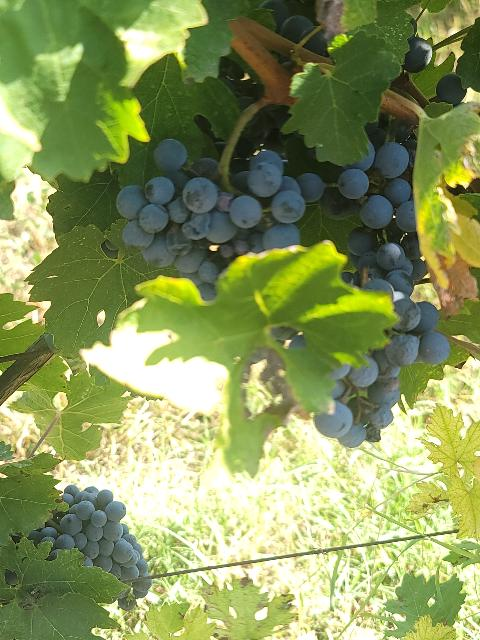grapes: (314, 114, 450, 448), (116, 139, 305, 300), (29, 485, 152, 610)
